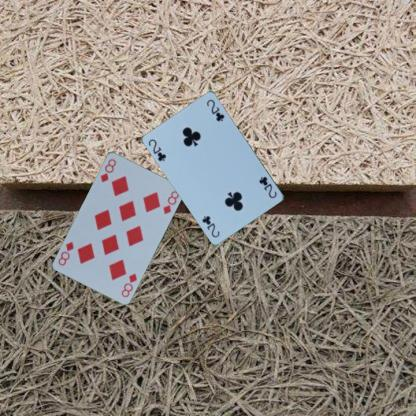2c: (146, 136, 168, 163), (256, 174, 278, 199)
8d: (98, 156, 117, 183), (119, 271, 138, 298)
